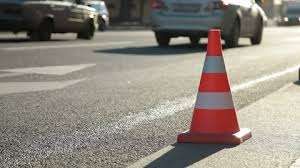car: (151, 1, 268, 48), (1, 1, 98, 40)
cone: (178, 28, 253, 144)
